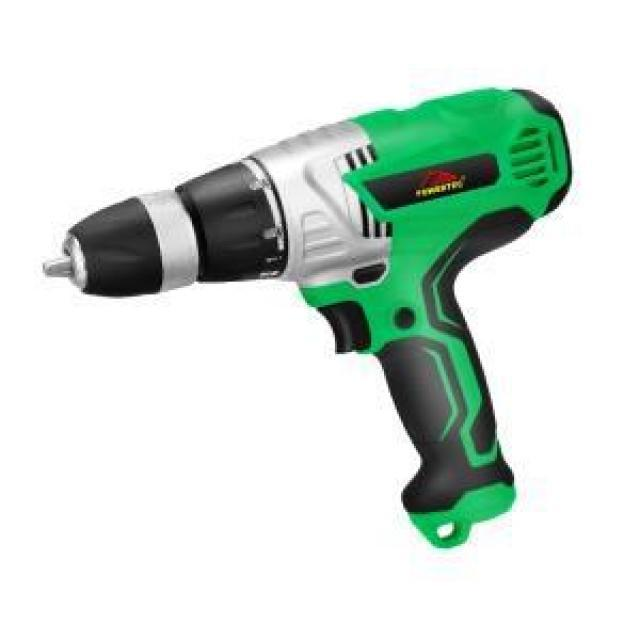drill: (43, 88, 574, 550)
